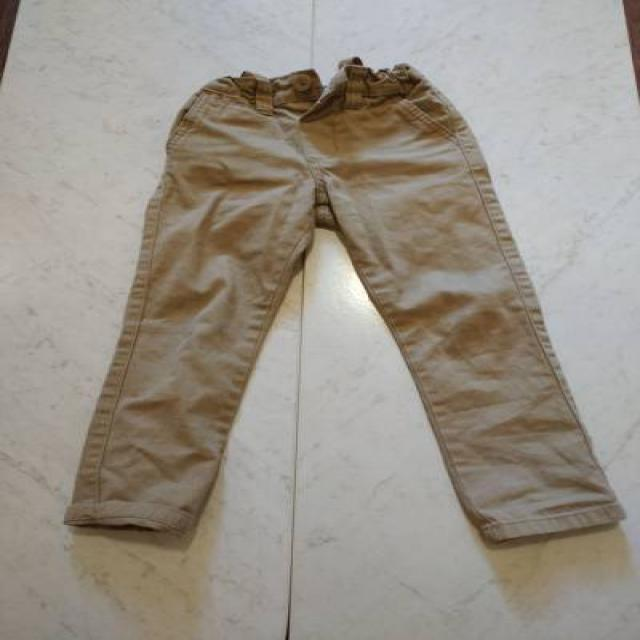Clothes -Biodegradable-: (53, 67, 628, 540)
